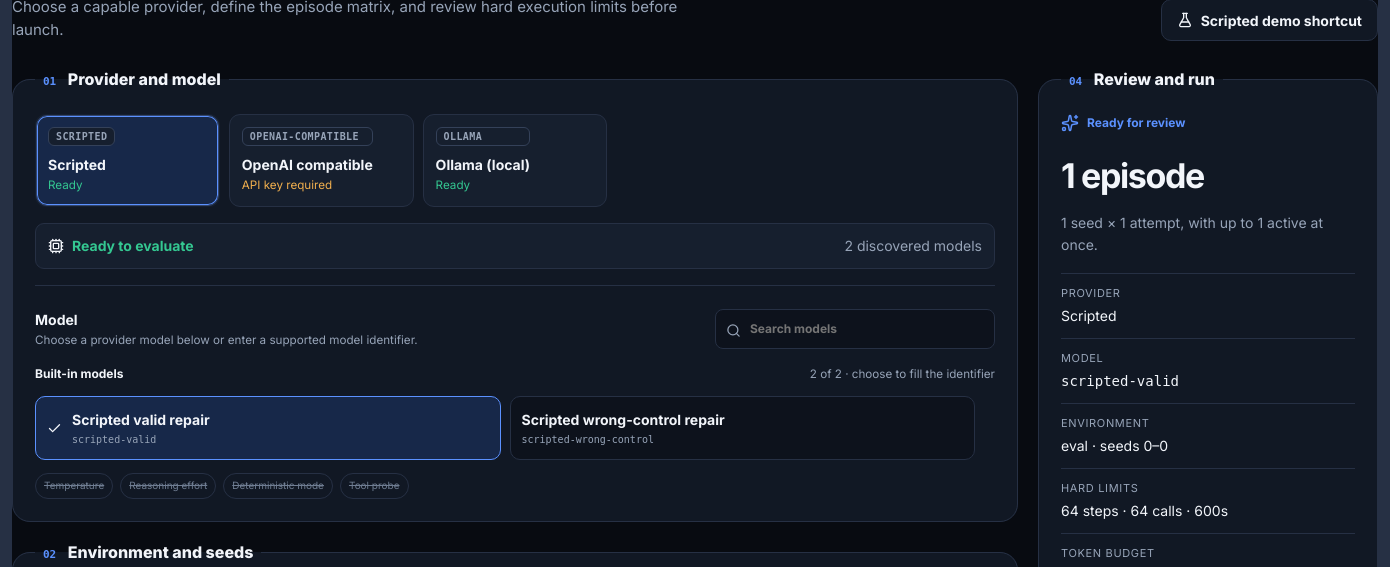
Scenario: uses modest parallelism for a hosted-provider preset
The width and height of the screenshot is (1390, 567).
Click the radio button labelled "openai-compatible OpenAI compatible API key required" at (321, 161), box [229, 114, 414, 207]
(page scrolled)
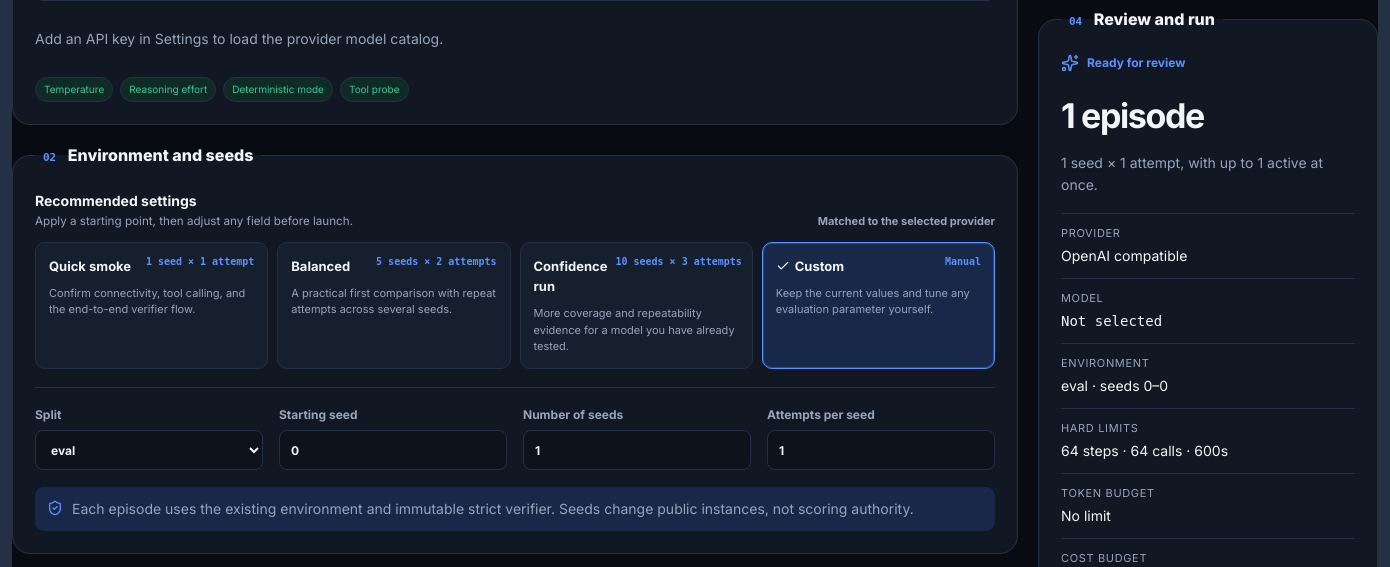
Click the button with aria-label "Apply Confidence run preset" at (636, 305), box [520, 242, 753, 368]
(page scrolled)
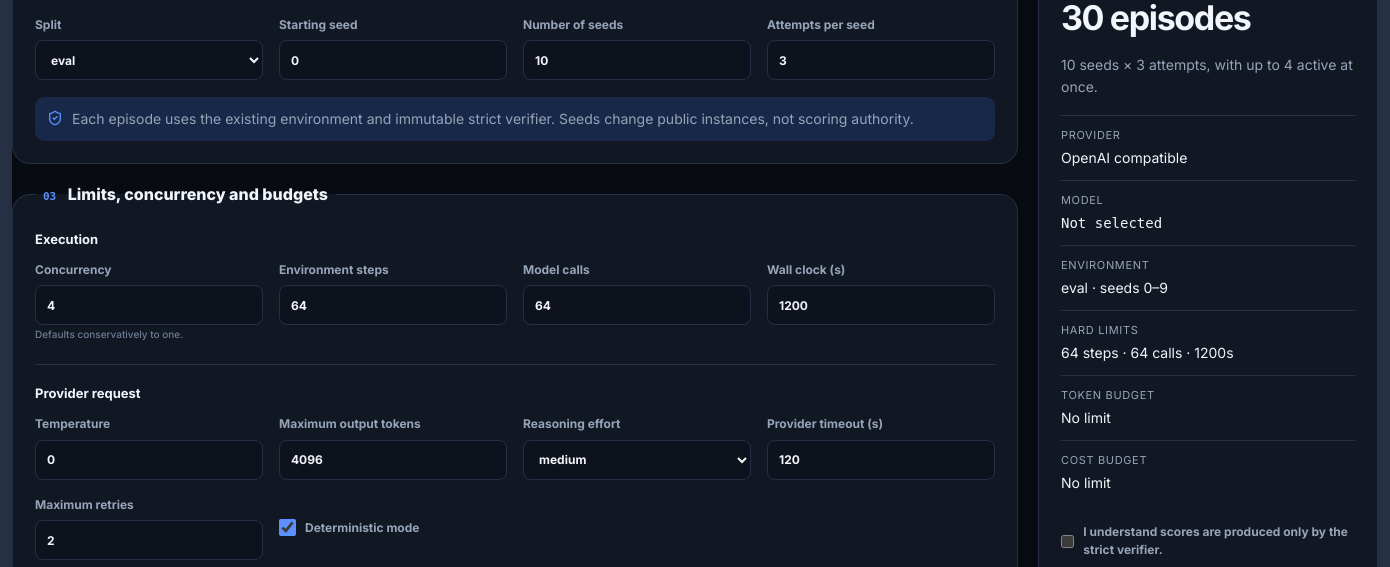
Result: the number field labelled "Number of seeds" holds "10" at [523, 40, 751, 80]
Result: the number field labelled "Attempts per seed" holds "3" at [767, 40, 995, 80]
Result: the number field labelled "Concurrency Defaults conservatively to one." holds "4" at [35, 285, 263, 325]
